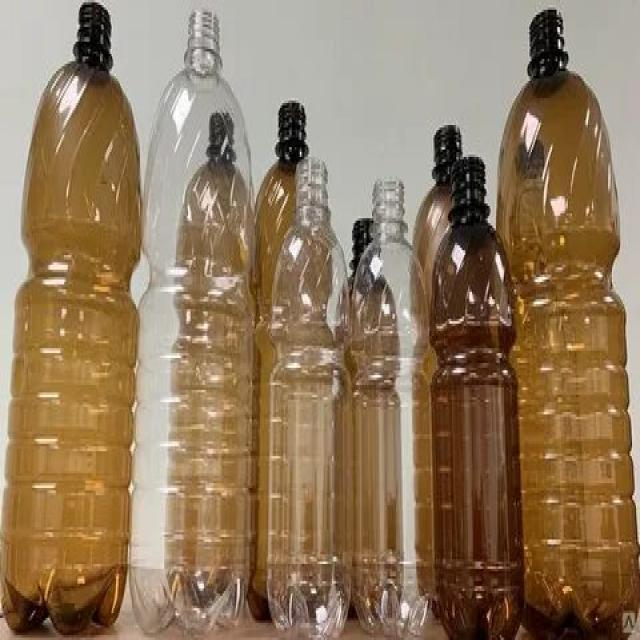brown: (498, 7, 638, 640), (7, 3, 139, 636), (430, 153, 520, 640), (257, 103, 305, 204)
